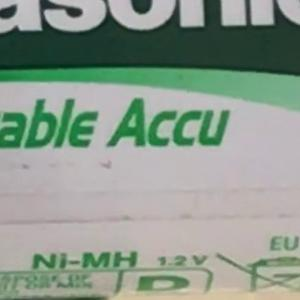keyword: (23, 243, 119, 278)
